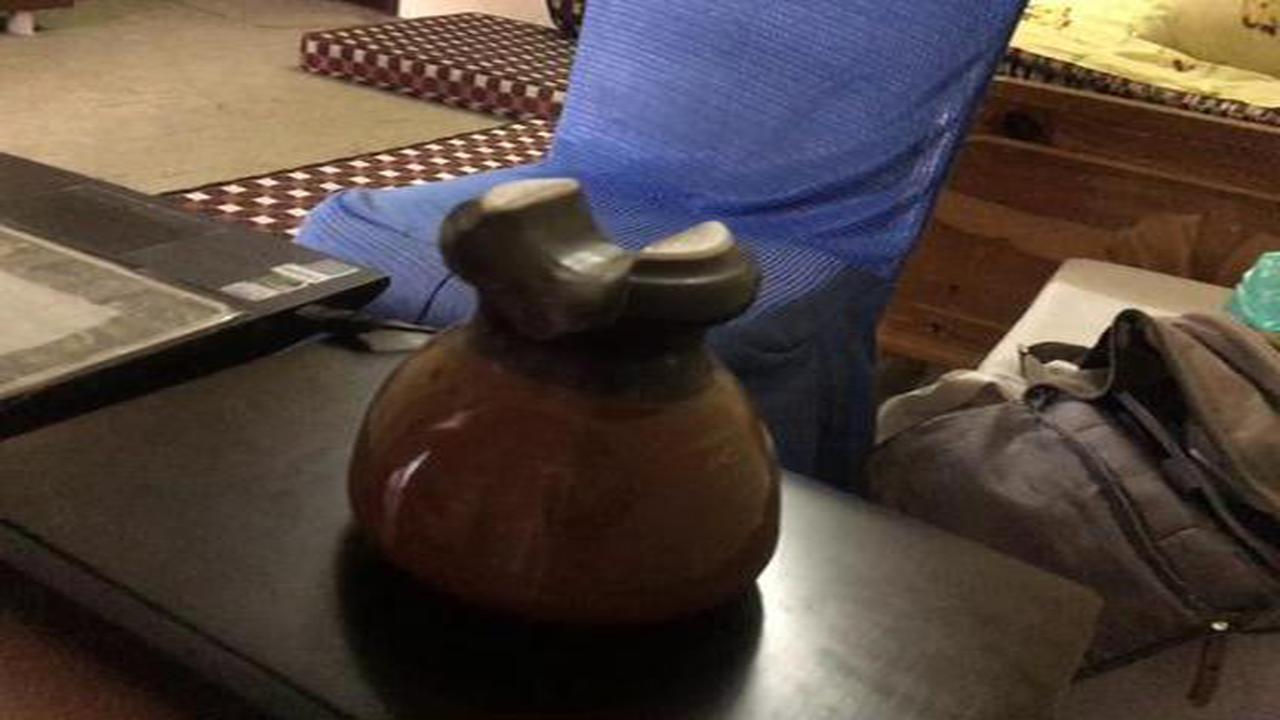insulator_pin: (321, 165, 801, 641)
